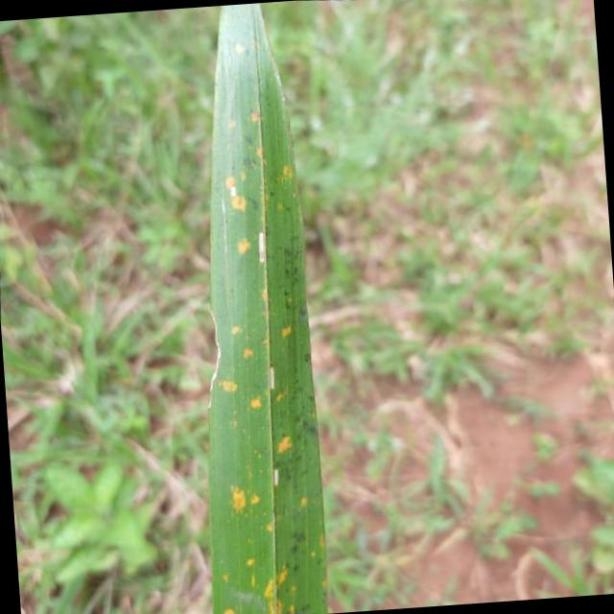Kalium: (206, 0, 333, 614)
